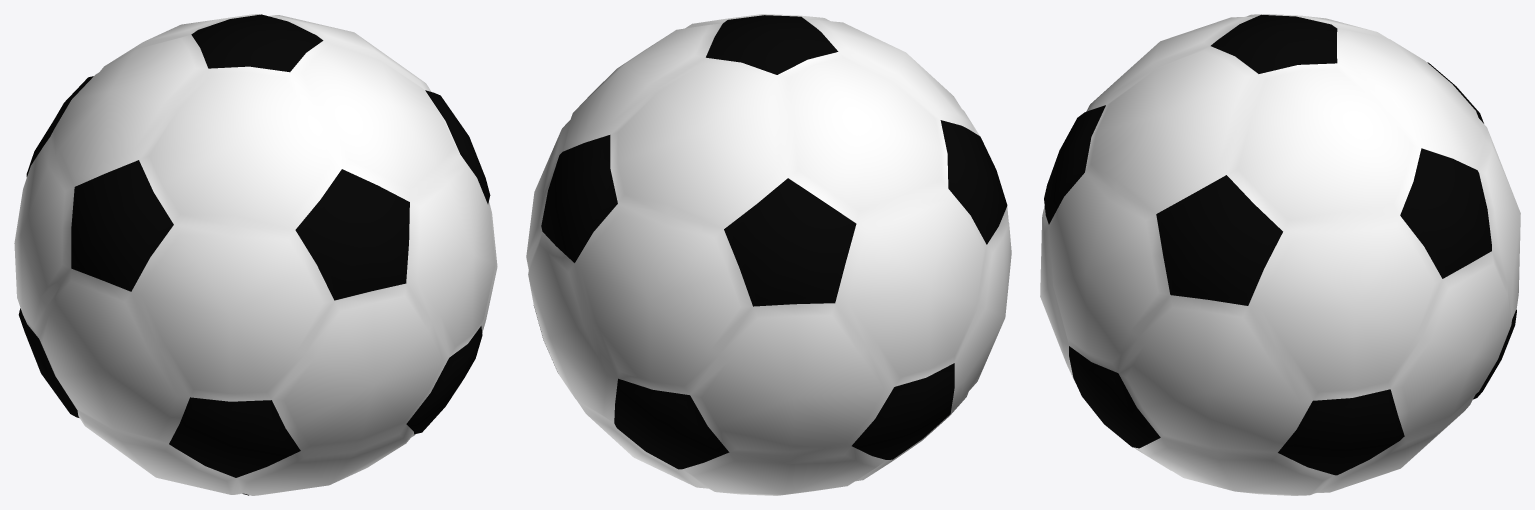
Rendered from SoccerBall_Centerpoint.fbx.
3 renders of one model, left to right at view 1: azimuth 30°, elevation 25°; view 2: azimuth 150°, elevation 25°; view 3: azimuth 270°, elevation 25°, orthographic.
Visible parts, largest first — view 1: SoccerBall_CenterPoint; view 2: SoccerBall_CenterPoint; view 3: SoccerBall_CenterPoint.
Boxes of the visible parts, bbox=[...] form: SoccerBall_CenterPoint: bbox=[14, 14, 497, 495]; SoccerBall_CenterPoint: bbox=[526, 14, 1011, 495]; SoccerBall_CenterPoint: bbox=[1040, 14, 1520, 495].
Bounding box in the file's own units: 3.7 × 3.76 × 3.66.
